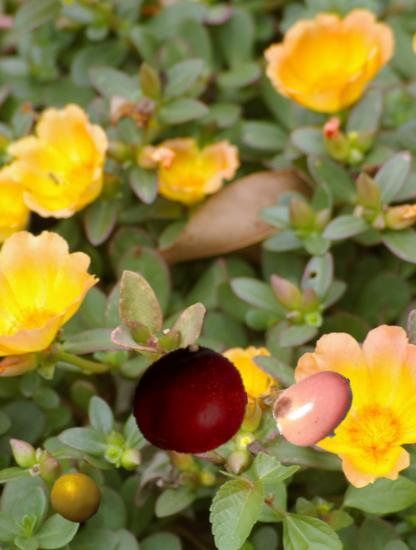Grapefruit: (50, 471, 103, 524)
Kaki: (272, 365, 360, 453)
Nectarine: (131, 341, 248, 458)
